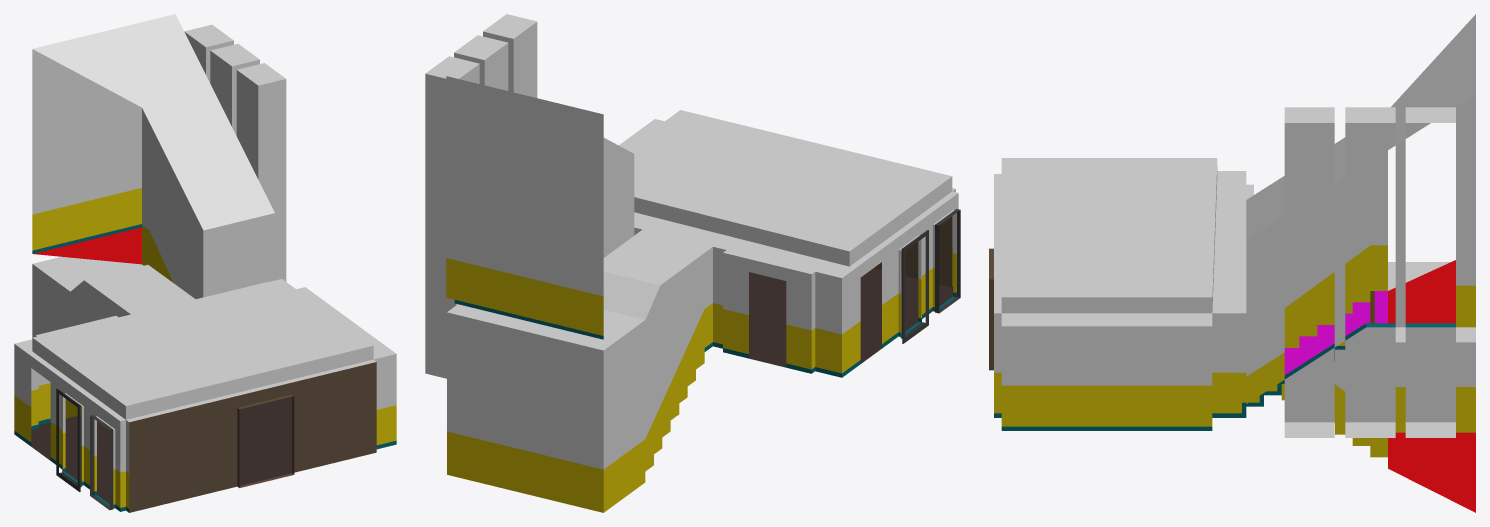
The model's file is patro2-chodbaKratka.fbx.
The picture shows the model from 3 angles, left to right: view 1: azimuth 30°, elevation 25°; view 2: azimuth 150°, elevation 25°; view 3: azimuth 270°, elevation 25°; orthographic projection. The views are drawn at different scales.
Visible parts, largest first — view 1: ChodbaKratka.Front, ChodbaKratka.Top, ChodbaKratka.Bottom, ChodbaKratka.Left, ChodbaKratka.Back, ChodbaKratka.Right; view 2: ChodbaKratka.Back, ChodbaKratka.Top, ChodbaKratka.Left, ChodbaKratka.Bottom, ChodbaKratka.Front, ChodbaKratka.Right; view 3: ChodbaKratka.Right, ChodbaKratka.Top, ChodbaKratka.Left, ChodbaKratka.Bottom.
Part boxes in pixels (left/top/right/bottom): ChodbaKratka.Front: left=79, top=40, right=396, bottom=512; ChodbaKratka.Top: left=15, top=24, right=396, bottom=430; ChodbaKratka.Bottom: left=31, top=14, right=293, bottom=509; ChodbaKratka.Left: left=14, top=32, right=258, bottom=512; ChodbaKratka.Back: left=31, top=49, right=141, bottom=495; ChodbaKratka.Right: left=58, top=393, right=294, bottom=495; ChodbaKratka.Back: left=425, top=31, right=939, bottom=512; ChodbaKratka.Top: left=425, top=14, right=960, bottom=350; ChodbaKratka.Left: left=456, top=22, right=958, bottom=512; ChodbaKratka.Bottom: left=603, top=268, right=960, bottom=367; ChodbaKratka.Front: left=874, top=210, right=960, bottom=322; ChodbaKratka.Right: left=900, top=213, right=956, bottom=338; ChodbaKratka.Right: left=989, top=95, right=1475, bottom=457; ChodbaKratka.Top: left=989, top=107, right=1475, bottom=342; ChodbaKratka.Left: left=1284, top=123, right=1475, bottom=432; ChodbaKratka.Bottom: left=1246, top=14, right=1475, bottom=512.
Bounding box in the file's own units: 784 × 920 × 970.
